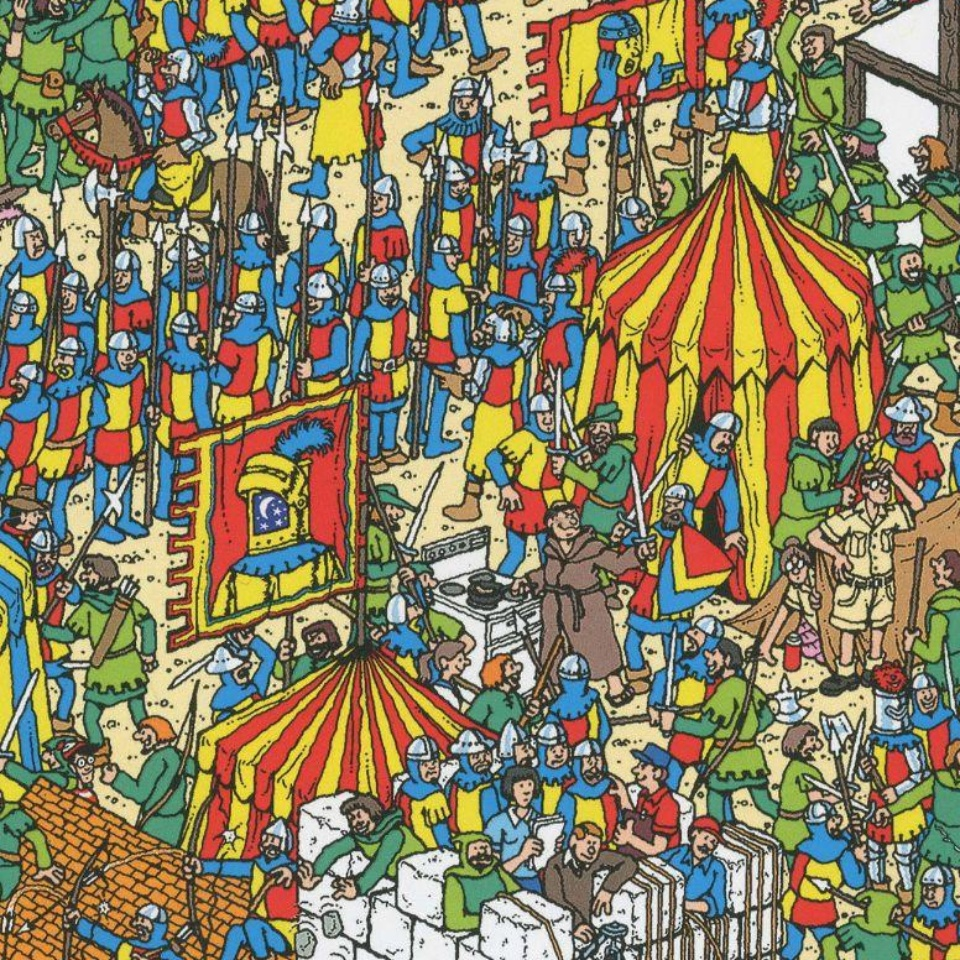waldo: (57, 740, 104, 788)
